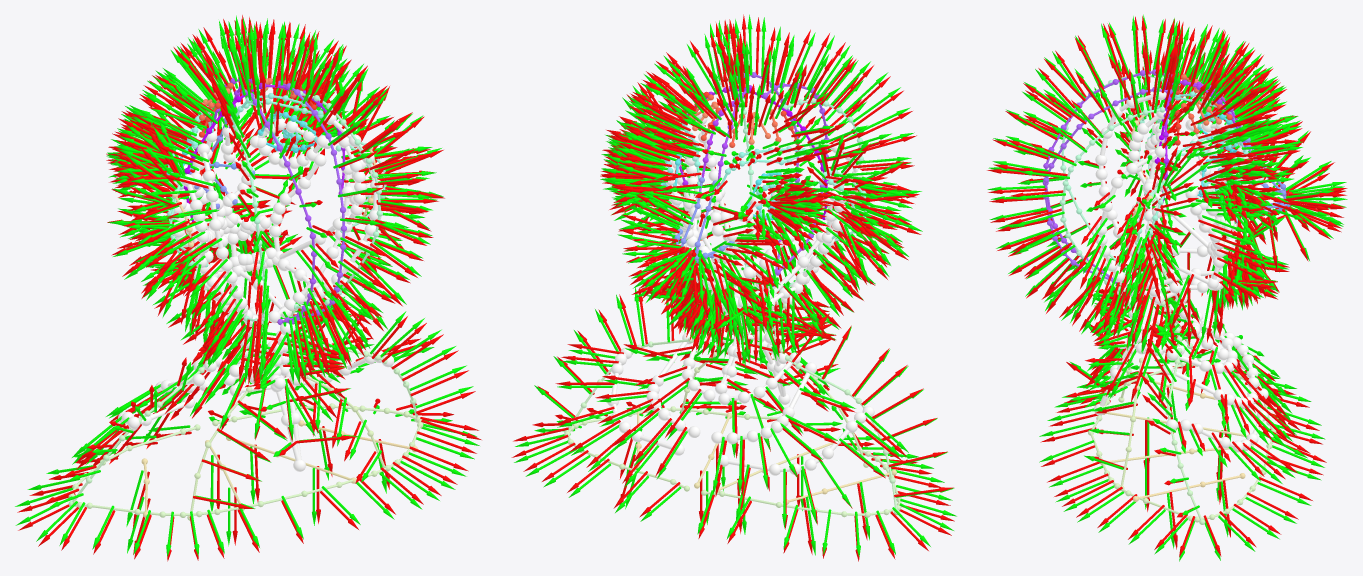
Rendered from author1_bust.gltf.
3 renders of one model, left to right at view 1: azimuth 30°, elevation 25°; view 2: azimuth 150°, elevation 25°; view 3: azimuth 270°, elevation 25°, orthographic. The views are drawn at different scales.
Size of the model in its own units: 0.7973 by 0.8602 by 0.6047.
